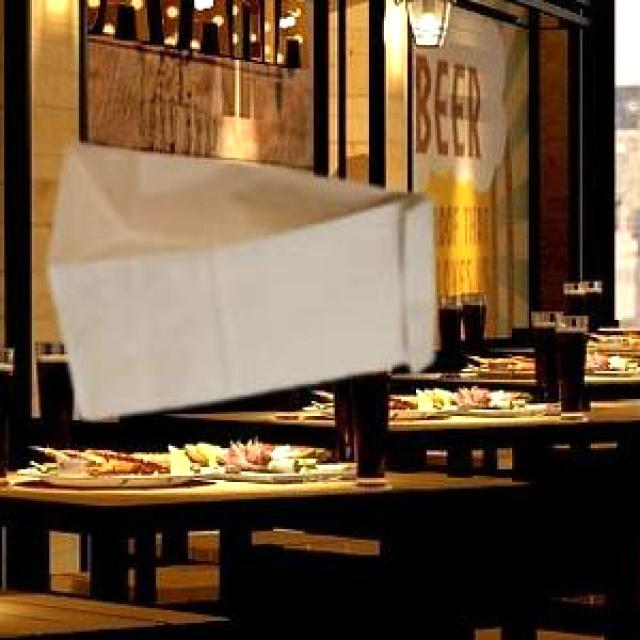Paper_Bag: (46, 140, 430, 415)
